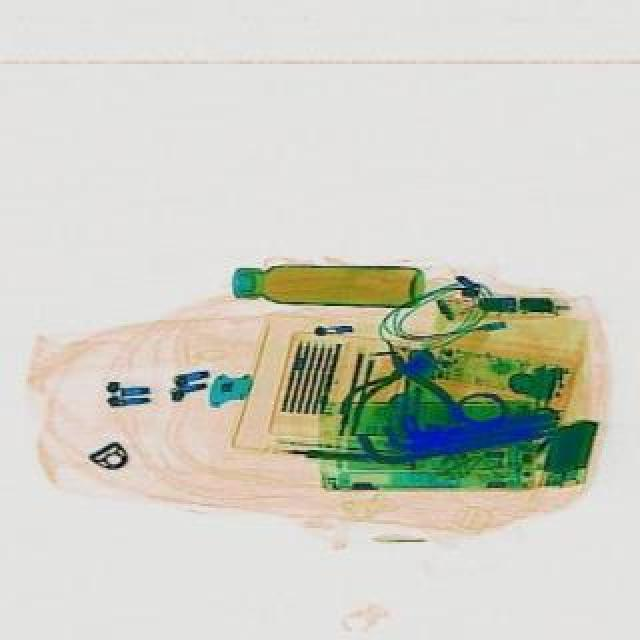wrench: (348, 336, 460, 440)
